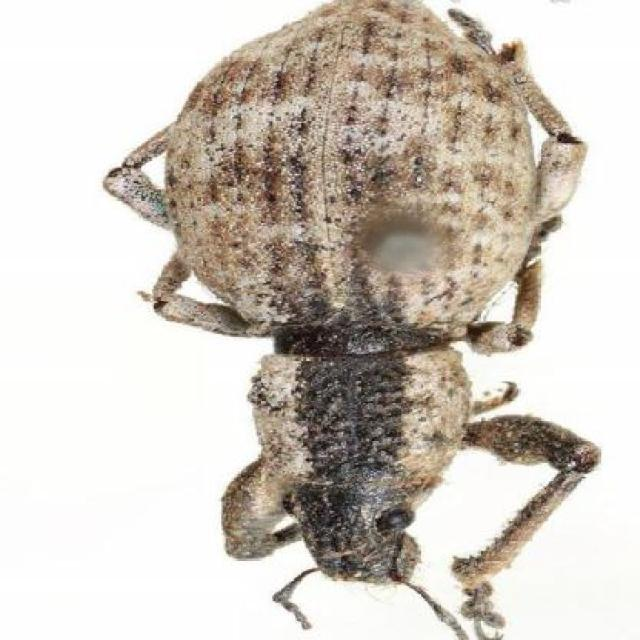rice-bug: (110, 2, 602, 607)
